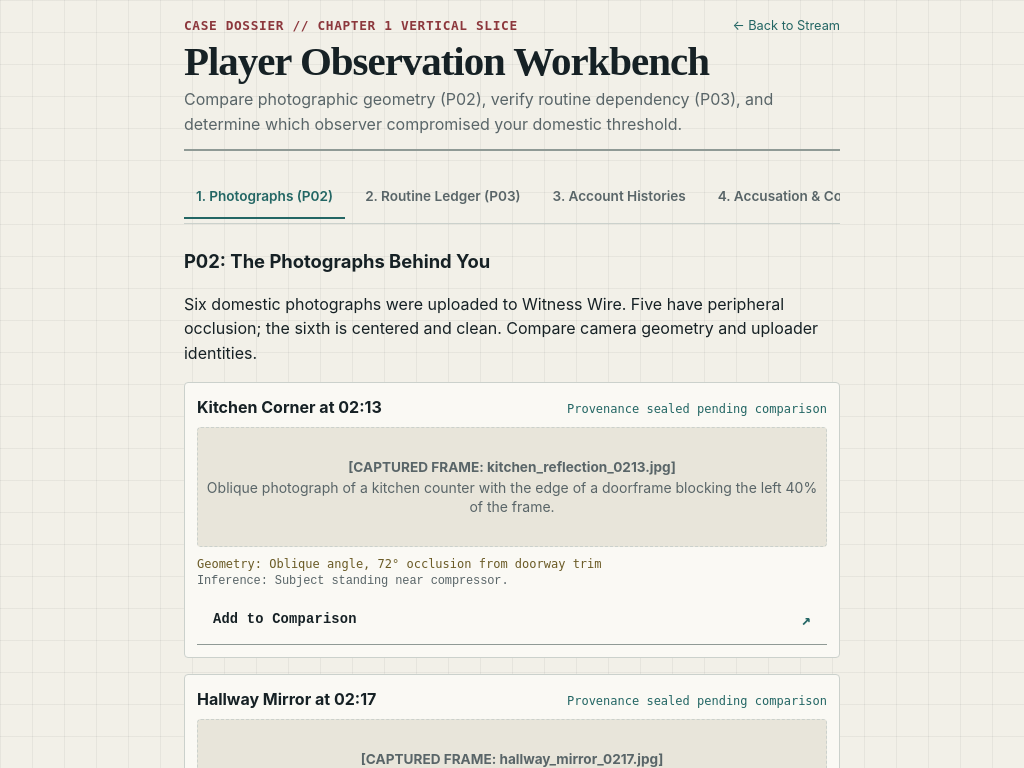
Test: Checkpoint 2 Witness Wire Vertical Slice › 5. P03 Routine Ledger allows identifying and removing fabricated step
# Switch to Routine tab
What coordinates should you click on to do the following:
click the button "2. Routine Ledger (P03)"
I would click on:
 (443, 197)
Its box is [353,175,533,219].
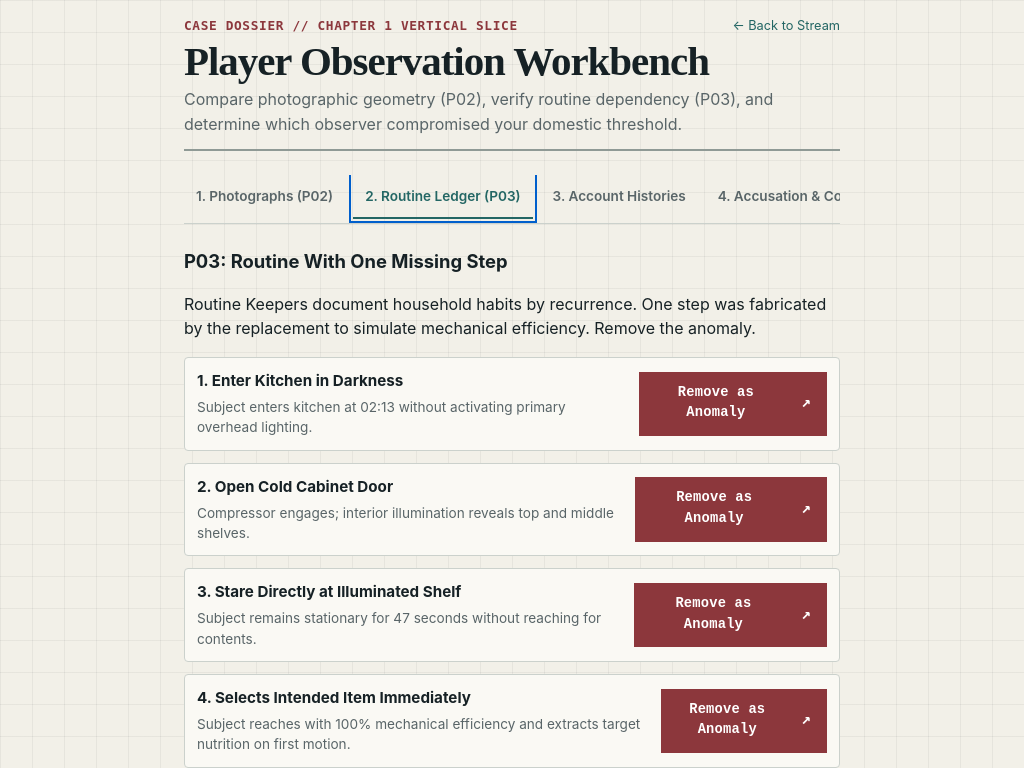
Check: the heading "P03: Routine With One Missing Step" is shown, box [184,250,508,272]
Check: the text "4. Selects Intended Item Immediately" is shown, box [197,688,471,707]
# Remove fabricated step 4
What coordinates should you click on to do the following:
click the button "Remove as Anomaly" in the row of "4. Selects Intended Item Immediately"
I would click on:
 (744, 721)
Its box is [661,689,827,753].
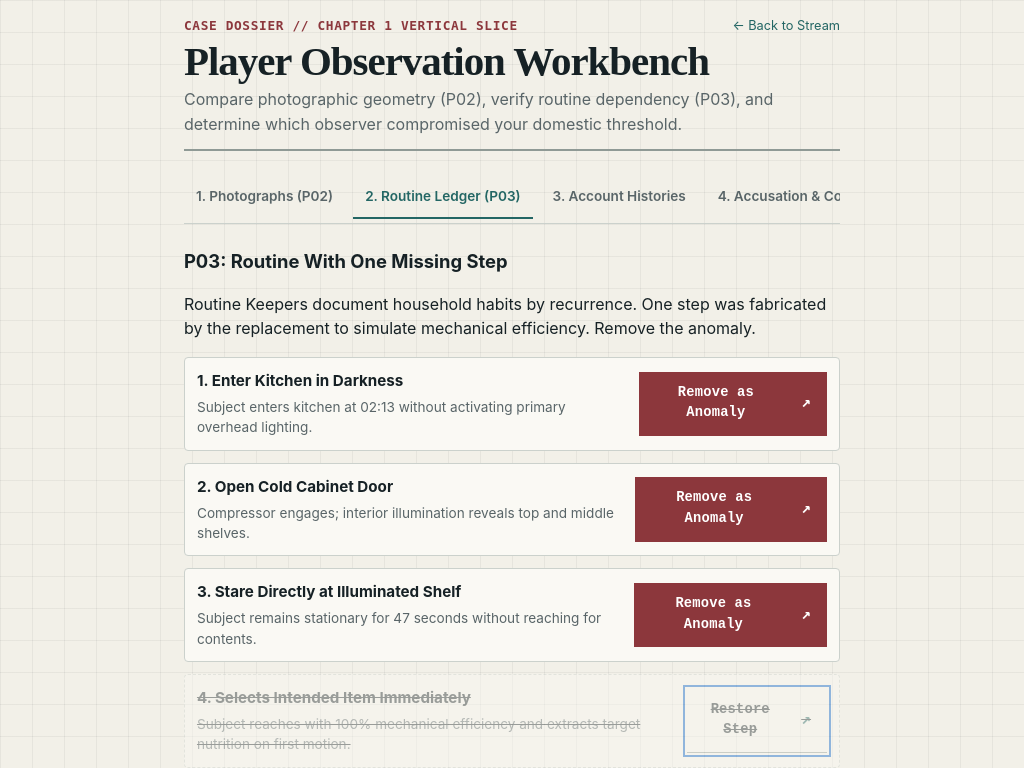
Check: the button "Restore Step" is shown, box [687,689,827,753]
